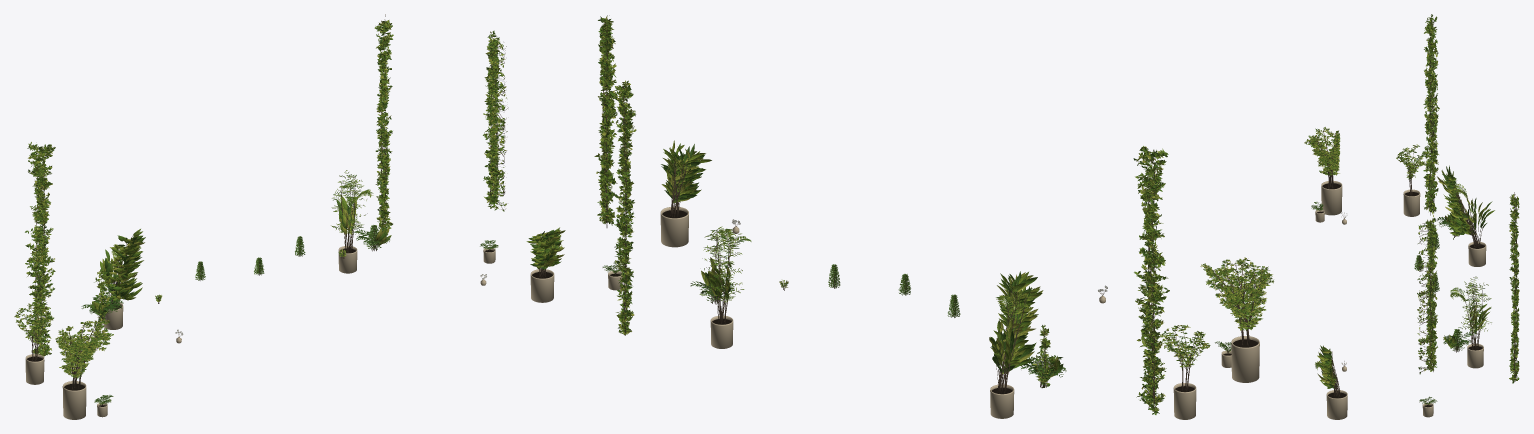
Rendered from projection-botanical-v10.glb.
3 renders of one model, left to right at view 1: azimuth 30°, elevation 25°; view 2: azimuth 150°, elevation 25°; view 3: azimuth 270°, elevation 25°, orthographic. The views are drawn at different scales.
Parts seen in each view (by area): view 1: Projection Botanical V10 | foliage small climbing leaves, Projection Botanical V10 | foliage slender areca and bamboo, Projection Botanical V10 | planter champagne brushed metal, Projection Botanical V10 | foliage mature ficus with fine re, Projection Botanical V10 | bark textured natural warm grey t, Projection Botanical V10 | foliage fine fern pinnae, Projection Botanical V10 | foliage broad glossy tropical und, Projection Botanical V10 | bark slender olive brown stems; view 2: Projection Botanical V10 | foliage small climbing leaves, Projection Botanical V10 | foliage slender areca and bamboo, Projection Botanical V10 | planter champagne brushed metal, Projection Botanical V10 | foliage mature ficus with fine re, Projection Botanical V10 | bark textured natural warm grey t, Projection Botanical V10 | foliage broad glossy tropical und, Projection Botanical V10 | bark slender olive brown stems, Projection Botanical V10 | foliage fine fern pinnae, Projection Botanical V10 | soil dark coarse planting substra; view 3: Projection Botanical V10 | foliage small climbing leaves, Projection Botanical V10 | planter champagne brushed metal, Projection Botanical V10 | foliage slender areca and bamboo, Projection Botanical V10 | bark textured natural warm grey t, Projection Botanical V10 | foliage mature ficus with fine re, Projection Botanical V10 | bark slender olive brown stems, Projection Botanical V10 | foliage broad glossy tropical und, Projection Botanical V10 | foliage fine fern pinnae, Projection Botanical V10 | soil dark coarse planting substra.
Boxes of the visible parts, bbox=[...] form: Projection Botanical V10 | foliage small climbing leaves: bbox=[25, 20, 507, 356]; Projection Botanical V10 | foliage slender areca and bamboo: bbox=[104, 170, 565, 301]; Projection Botanical V10 | planter champagne brushed metal: bbox=[25, 245, 554, 419]; Projection Botanical V10 | foliage mature ficus with fine re: bbox=[14, 303, 113, 378]; Projection Botanical V10 | bark textured natural warm grey t: bbox=[32, 14, 545, 389]; Projection Botanical V10 | foliage fine fern pinnae: bbox=[81, 225, 498, 404]; Projection Botanical V10 | foliage broad glossy tropical und: bbox=[90, 195, 555, 315]; Projection Botanical V10 | bark slender olive brown stems: bbox=[18, 22, 545, 406]; Projection Botanical V10 | foliage small climbing leaves: bbox=[594, 15, 1169, 414]; Projection Botanical V10 | foliage slender areca and bamboo: bbox=[661, 140, 1043, 373]; Projection Botanical V10 | planter champagne brushed metal: bbox=[608, 207, 1259, 419]; Projection Botanical V10 | foliage mature ficus with fine re: bbox=[1160, 257, 1273, 367]; Projection Botanical V10 | bark textured natural warm grey t: bbox=[602, 18, 1263, 409]; Projection Botanical V10 | foliage broad glossy tropical und: bbox=[665, 162, 1063, 380]; Projection Botanical V10 | bark slender olive brown stems: bbox=[599, 15, 1270, 412]; Projection Botanical V10 | foliage fine fern pinnae: bbox=[602, 261, 1231, 379]; Projection Botanical V10 | soil dark coarse planting substra: bbox=[610, 210, 1258, 394]; Projection Botanical V10 | foliage small climbing leaves: bbox=[1417, 14, 1519, 383]; Projection Botanical V10 | planter champagne brushed metal: bbox=[1315, 180, 1486, 419]; Projection Botanical V10 | foliage slender areca and bamboo: bbox=[1315, 165, 1491, 388]; Projection Botanical V10 | bark textured natural warm grey t: bbox=[1314, 19, 1517, 397]; Projection Botanical V10 | foliage mature ficus with fine re: bbox=[1304, 127, 1429, 179]; Projection Botanical V10 | bark slender olive brown stems: bbox=[1304, 18, 1518, 406]; Projection Botanical V10 | foliage broad glossy tropical und: bbox=[1325, 198, 1494, 385]; Projection Botanical V10 | foliage fine fern pinnae: bbox=[1311, 202, 1473, 404]; Projection Botanical V10 | soil dark coarse planting substra: bbox=[1317, 183, 1484, 407].
Bounding box in the file's own units: 14.21 × 6.16 × 5.95.
Materials: 11 (8 with a texture image).
